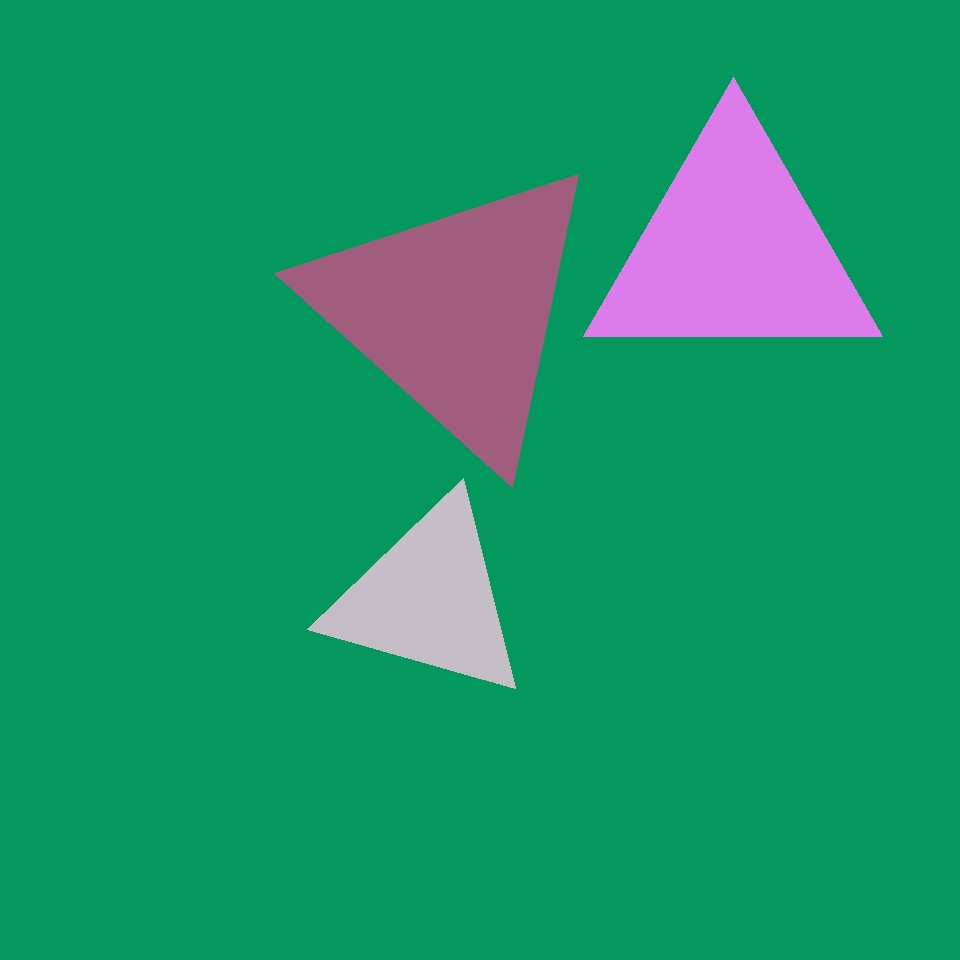circle: (303, 156, 607, 468), (584, 121, 882, 380), (325, 494, 533, 704)
